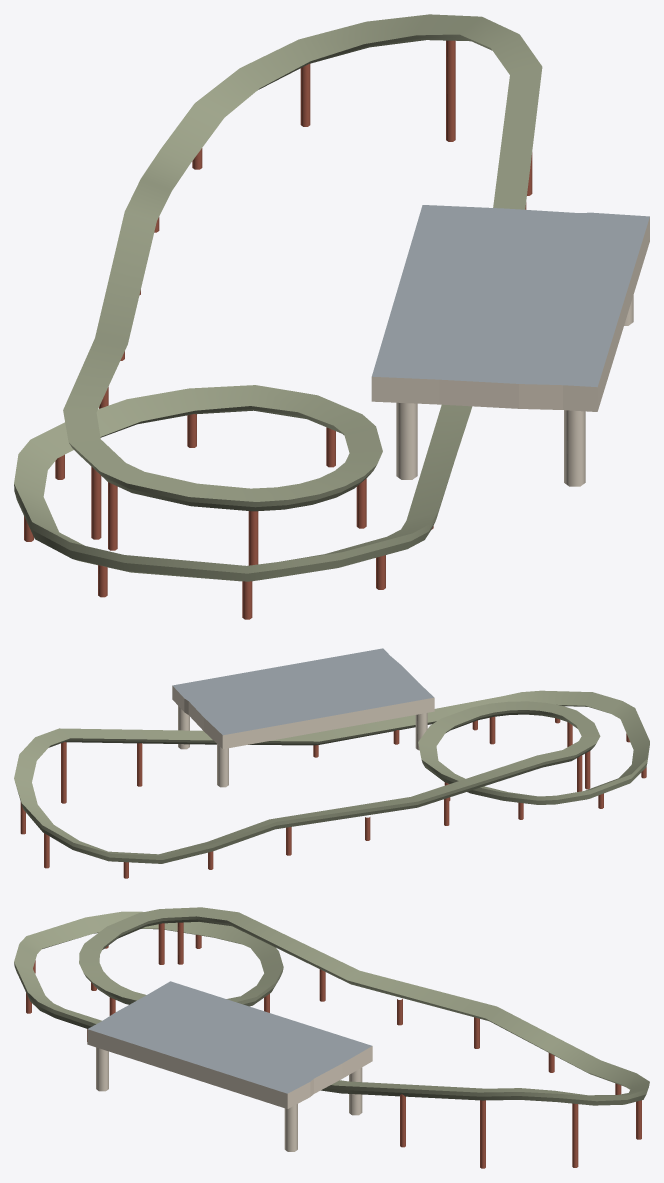
Rendered from detail.glb.
3 views of the same model, one above another, from view 1: azimuth 30°, elevation 25°; view 2: azimuth 150°, elevation 25°; view 3: azimuth 270°, elevation 25° (orthographic). The views are drawn at different scales.
Visible parts, largest first — view 1: wilderness-run-carowinds; view 2: wilderness-run-carowinds; view 3: wilderness-run-carowinds.
Part boxes in pixels (x1,y1,x2,y2): wilderness-run-carowinds: (14, 14, 649, 619); wilderness-run-carowinds: (14, 648, 649, 878); wilderness-run-carowinds: (14, 907, 649, 1168).
Bounding box in the file's own units: 29.32 × 4.8 × 33.67.
